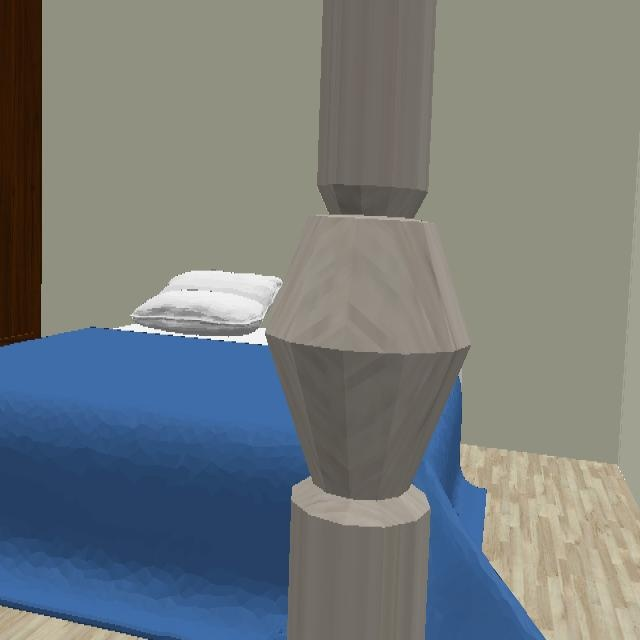bed: (0, 328, 309, 640), (413, 391, 546, 640)
pillow: (128, 271, 282, 341)
